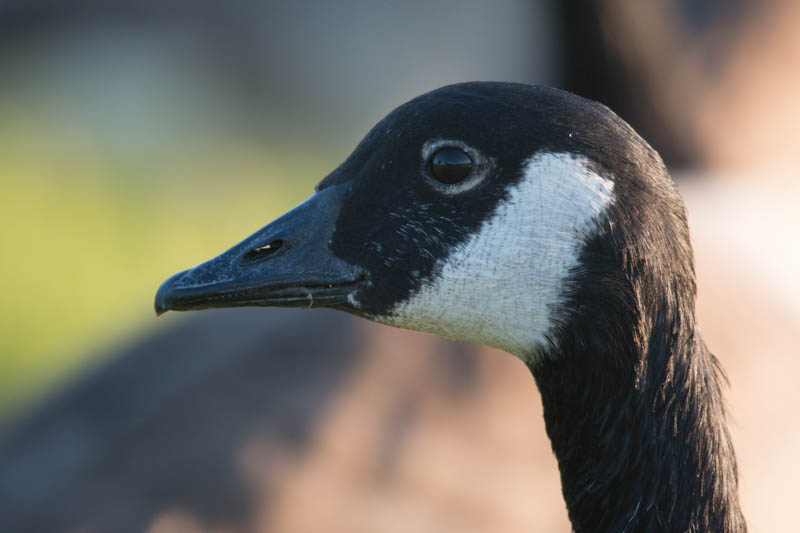goose-head: (154, 81, 697, 366)
